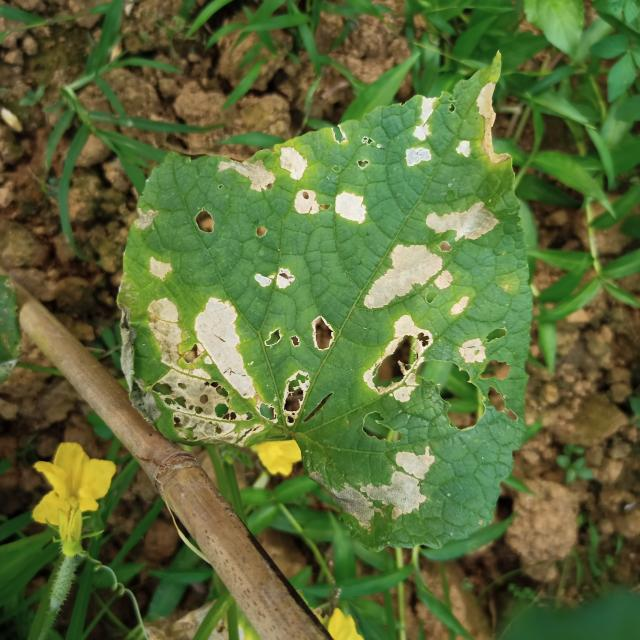disease_cucumber: (206, 75, 564, 321), (109, 203, 339, 462), (347, 310, 516, 553)
